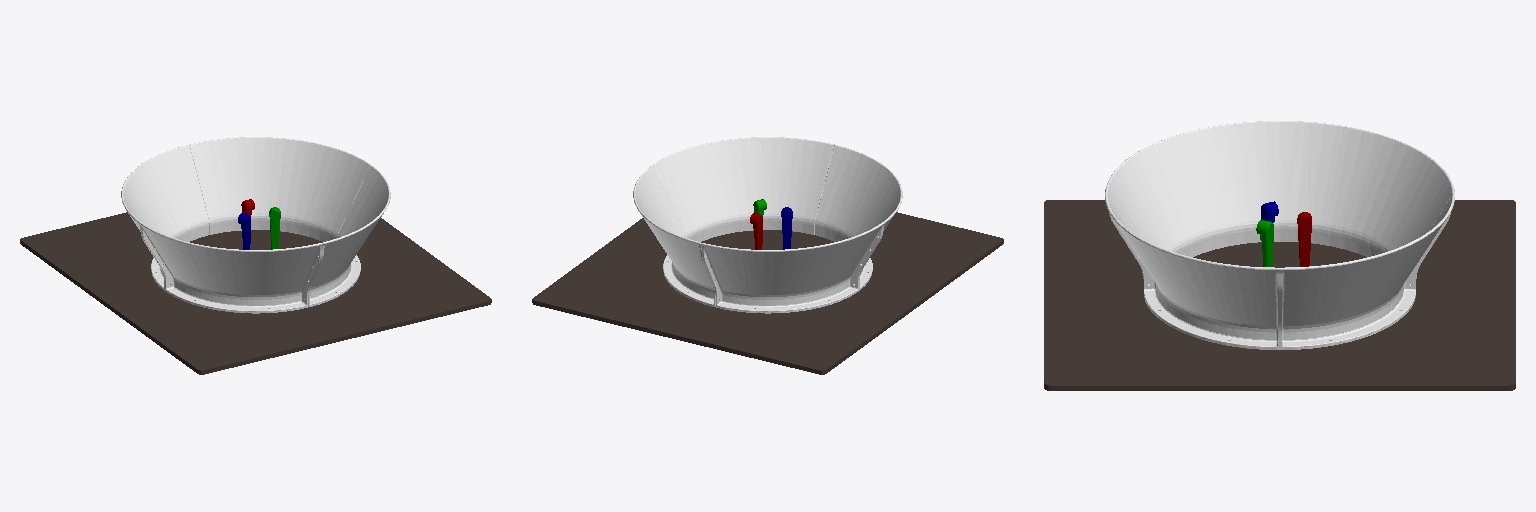
The robot description file, URDF, robot "trifinger_with_stage":
<?xml version="1.0" ?>
<!-- =================================================================================== -->
<!-- |    This document was autogenerated by xacro from robot_properties_fingers/xacro/trifinger_with_stage.urdf.xacro | -->
<!-- |    EDITING THIS FILE BY HAND IS NOT RECOMMENDED                                 | -->
<!-- =================================================================================== -->
<robot name="trifinger_with_stage">
  <!--
    Frames are defined such that they all align with the base frame when all
    joints are at position zero.

    In zero-configuration the origins of all joints are in one line.

    In zero-configuration the origin of the base link is exactly above the
    finger tip which should make it easy to place the finger in the world.
    -->
  <!-- Define the global base_link and place all other objects relative to it. -->
  <link name="base_link">
    <inertial>
      <origin rpy="0 0 0" xyz="0 0 0"/>
      <mass value="1"/>
      <inertia ixx="4.166666666666667e-06" ixy="0" ixz="0" iyy="4.166666666666667e-06" iyz="0" izz="4.166666666666667e-06"/>
    </inertial>
  </link>
  <!-- Define the upper holder -->
  <link name="upper_holder_link">
    <inertial>
      <origin rpy="0 0 0" xyz="0 0 0"/>
      <mass value="1"/>
      <inertia ixx="4.166666666666667e-06" ixy="0" ixz="0" iyy="4.166666666666667e-06" iyz="0" izz="4.166666666666667e-06"/>
    </inertial>
  </link>
  <joint name="base_to_upper_holder_joint" type="fixed">
    <parent link="base_link"/>
    <child link="upper_holder_link"/>
    <origin xyz="0 0 0.29"/>
  </joint>
  <material name="finger_0_material">
    <color rgba="0.6 0.0 0.0 1.0"/>
  </material>
  <material name="finger_120_material">
    <color rgba="0.0 0.6 0.0 1.0"/>
  </material>
  <material name="finger_240_material">
    <color rgba="0.0 0.0 0.6 1.0"/>
  </material>
  <!--
        Fixed links for the finger base (parts where the upper link is mounted).
        -->
  <link name="finger_base_link_0">
    <visual>
      <origin rpy="0 0 0" xyz="0 0.179 0"/>
      <geometry>
        <mesh filename="package://robot_properties_fingers/meshes/SIM__BL-Finger_Base.obj" scale="1 1 1"/>
      </geometry>
      <material name="finger_0_material"/>
    </visual>
    <collision>
      <origin rpy="0 0 0" xyz="0 0.179 0"/>
      <geometry>
        <mesh filename="package://robot_properties_fingers/meshes/SIM__BL-Finger_Base.obj" scale="1 1 1"/>
      </geometry>
    </collision>
    <inertial>
      <origin rpy="0 0 0" xyz="0 0 0"/>
      <mass value="1"/>
      <inertia ixx="0.00041666666666666675" ixy="0" ixz="0" iyy="0.00041666666666666675" iyz="0" izz="0.00041666666666666675"/>
    </inertial>
  </link>
  <!-- The movable links (upper, middle and lower) of the finger. -->
  <!-- TODO inertia parameters don't look correct, they cant be same for upper and middle! -->
  <link name="finger_upper_link_0">
    <visual>
      <origin rpy="0 0 0" xyz="0 -0.02695 0"/>
      <geometry>
        <mesh filename="package://robot_properties_fingers/meshes/SIM__BL-Finger_Proximal.obj" scale="1 1 1"/>
      </geometry>
      <material name="finger_0_material"/>
    </visual>
    <collision>
      <origin rpy="0 0 0" xyz="0 -0.02695 0"/>
      <geometry>
        <mesh filename="package://robot_properties_fingers/meshes/SIM__BL-Finger_Proximal.obj" scale="1 1 1"/>
      </geometry>
    </collision>
    <inertial>
      <origin rpy="0 0 0" xyz="0 0.06 0"/>
      <mass value="0.2"/>
      <inertia ixx="0.0003533333333333334" ixy="0" ixz="0" iyy="5.333333333333333e-05" iyz="0" izz="0.0003533333333333334"/>
    </inertial>
  </link>
  <link name="finger_middle_link_0">
    <visual>
      <origin rpy="1.5707963267948966 0 0" xyz="0.014 0 0"/>
      <geometry>
        <mesh filename="package://robot_properties_fingers/meshes/SIM__BL-Finger_Intermediate.obj" scale="1 1 1"/>
      </geometry>
      <material name="finger_0_material"/>
    </visual>
    <collision>
      <origin rpy="1.5707963267948966 0 0" xyz="0.014 0 0"/>
      <geometry>
        <mesh filename="package://robot_properties_fingers/meshes/SIM__BL-Finger_Intermediate.obj" scale="1 1 1"/>
      </geometry>
    </collision>
    <inertial>
      <origin rpy="0 0 0" xyz="0.028 0 -0.08"/>
      <mass value="0.2"/>
      <inertia ixx="0.0003533333333333334" ixy="0" ixz="0" iyy="0.0003533333333333334" iyz="0" izz="5.333333333333333e-05"/>
    </inertial>
  </link>
  <link name="finger_lower_link_0">
    <visual>
      <origin rpy="1.5707963267948966 0 0" xyz="0.014 0 0"/>
      <geometry>
        <mesh filename="package://robot_properties_fingers/meshes/SIM_BL_FINGER_TIP_LINK.obj" scale="1 1 1"/>
      </geometry>
      <material name="finger_0_material"/>
    </visual>
    <collision>
      <origin rpy="1.5707963267948966 0 0" xyz="0.014 0 0"/>
      <geometry>
        <mesh filename="package://robot_properties_fingers/meshes/SIM_BL_FINGER_TIP_LINK.obj" scale="1 1 1"/>
      </geometry>
    </collision>
    <inertial>
      <origin rpy="0 0 0" xyz="0 0 -0.06"/>
      <mass value="0.01"/>
      <inertia ixx="1.6666666666666667e-05" ixy="0" ixz="0" iyy="1.6666666666666667e-05" iyz="0" izz="6.666666666666667e-07"/>
    </inertial>
  </link>
  <!-- fixed link for finger tip -->
  <link name="finger_tip_link_0">
    <inertial>
      <origin rpy="0 0 0" xyz="0 0 0"/>
      <mass value="0.02"/>
      <inertia ixx="3.3333333333333335e-07" ixy="0" ixz="0" iyy="3.3333333333333335e-07" iyz="0" izz="3.3333333333333335e-07"/>
    </inertial>
  </link>
  <joint name="finger_lower_to_tip_joint_0" type="fixed">
    <parent link="finger_lower_link_0"/>
    <child link="finger_tip_link_0"/>
    <origin xyz="0 0 -0.16"/>
  </joint>
  <!-- kinematics -->
  <!-- TODO: joint limits are based on values from wiki
        (https://atlas.is.localnet/confluence/display/AMDW/Forward+Kinematics) but
        should be verified on the real system (especially the finger tip limits look
        a bit too big when visualizing the model. -->
  <joint name="finger_base_to_upper_joint_0" type="revolute">
    <parent link="finger_base_link_0"/>
    <child link="finger_upper_link_0"/>
    <limit effort="1000" lower="-1.5707963267948966" upper="1.5707963267948966" velocity="1000"/>
    <axis xyz="0 1 0"/>
    <origin rpy="0 0 0" xyz="0 0 0"/>
  </joint>
  <joint name="finger_upper_to_middle_joint_0" type="revolute">
    <parent link="finger_upper_link_0"/>
    <child link="finger_middle_link_0"/>
    <limit effort="1000" lower="-1.3526301702956054" upper="4.494222823885399" velocity="1000"/>
    <axis xyz="-1 0 0"/>
    <origin rpy="0 0 0" xyz="0 0 0"/>
  </joint>
  <joint name="finger_middle_to_lower_joint_0" type="revolute">
    <parent link="finger_middle_link_0"/>
    <child link="finger_lower_link_0"/>
    <limit effort="1000" lower="-3.001966313430247" upper="3.001966313430247" velocity="1000"/>
    <axis xyz="1 0 0"/>
    <origin rpy="0 0 0" xyz="0 0 -0.16"/>
  </joint>
  <!--
        Fixed links for the finger base (parts where the upper link is mounted).
        -->
  <link name="finger_base_link_120">
    <visual>
      <origin rpy="0 0 0" xyz="0 0.179 0"/>
      <geometry>
        <mesh filename="package://robot_properties_fingers/meshes/SIM__BL-Finger_Base.obj" scale="1 1 1"/>
      </geometry>
      <material name="finger_120_material"/>
    </visual>
    <collision>
      <origin rpy="0 0 0" xyz="0 0.179 0"/>
      <geometry>
        <mesh filename="package://robot_properties_fingers/meshes/SIM__BL-Finger_Base.obj" scale="1 1 1"/>
      </geometry>
    </collision>
    <inertial>
      <origin rpy="0 0 0" xyz="0 0 0"/>
      <mass value="1"/>
      <inertia ixx="0.00041666666666666675" ixy="0" ixz="0" iyy="0.00041666666666666675" iyz="0" izz="0.00041666666666666675"/>
    </inertial>
  </link>
  <!-- The movable links (upper, middle and lower) of the finger. -->
  <!-- TODO inertia parameters don't look correct, they cant be same for upper and middle! -->
  <link name="finger_upper_link_120">
    <visual>
      <origin rpy="0 0 0" xyz="0 -0.02695 0"/>
      <geometry>
        <mesh filename="package://robot_properties_fingers/meshes/SIM__BL-Finger_Proximal.obj" scale="1 1 1"/>
      </geometry>
      <material name="finger_120_material"/>
    </visual>
    <collision>
      <origin rpy="0 0 0" xyz="0 -0.02695 0"/>
      <geometry>
        <mesh filename="package://robot_properties_fingers/meshes/SIM__BL-Finger_Proximal.obj" scale="1 1 1"/>
      </geometry>
    </collision>
    <inertial>
      <origin rpy="0 0 0" xyz="0 0.06 0"/>
      <mass value="0.2"/>
      <inertia ixx="0.0003533333333333334" ixy="0" ixz="0" iyy="5.333333333333333e-05" iyz="0" izz="0.0003533333333333334"/>
    </inertial>
  </link>
  <link name="finger_middle_link_120">
    <visual>
      <origin rpy="1.5707963267948966 0 0" xyz="0.014 0 0"/>
      <geometry>
        <mesh filename="package://robot_properties_fingers/meshes/SIM__BL-Finger_Intermediate.obj" scale="1 1 1"/>
      </geometry>
      <material name="finger_120_material"/>
    </visual>
    <collision>
      <origin rpy="1.5707963267948966 0 0" xyz="0.014 0 0"/>
      <geometry>
        <mesh filename="package://robot_properties_fingers/meshes/SIM__BL-Finger_Intermediate.obj" scale="1 1 1"/>
      </geometry>
    </collision>
    <inertial>
      <origin rpy="0 0 0" xyz="0.028 0 -0.08"/>
      <mass value="0.2"/>
      <inertia ixx="0.0003533333333333334" ixy="0" ixz="0" iyy="0.0003533333333333334" iyz="0" izz="5.333333333333333e-05"/>
    </inertial>
  </link>
  <link name="finger_lower_link_120">
    <visual>
      <origin rpy="1.5707963267948966 0 0" xyz="0.014 0 0"/>
      <geometry>
        <mesh filename="package://robot_properties_fingers/meshes/SIM_BL_FINGER_TIP_LINK.obj" scale="1 1 1"/>
      </geometry>
      <material name="finger_120_material"/>
    </visual>
    <collision>
      <origin rpy="1.5707963267948966 0 0" xyz="0.014 0 0"/>
      <geometry>
        <mesh filename="package://robot_properties_fingers/meshes/SIM_BL_FINGER_TIP_LINK.obj" scale="1 1 1"/>
      </geometry>
    </collision>
    <inertial>
      <origin rpy="0 0 0" xyz="0 0 -0.06"/>
      <mass value="0.01"/>
      <inertia ixx="1.6666666666666667e-05" ixy="0" ixz="0" iyy="1.6666666666666667e-05" iyz="0" izz="6.666666666666667e-07"/>
    </inertial>
  </link>
  <!-- fixed link for finger tip -->
  <link name="finger_tip_link_120">
    <inertial>
      <origin rpy="0 0 0" xyz="0 0 0"/>
      <mass value="0.02"/>
      <inertia ixx="3.3333333333333335e-07" ixy="0" ixz="0" iyy="3.3333333333333335e-07" iyz="0" izz="3.3333333333333335e-07"/>
    </inertial>
  </link>
  <joint name="finger_lower_to_tip_joint_120" type="fixed">
    <parent link="finger_lower_link_120"/>
    <child link="finger_tip_link_120"/>
    <origin xyz="0 0 -0.16"/>
  </joint>
  <!-- kinematics -->
  <!-- TODO: joint limits are based on values from wiki
        (https://atlas.is.localnet/confluence/display/AMDW/Forward+Kinematics) but
        should be verified on the real system (especially the finger tip limits look
        a bit too big when visualizing the model. -->
  <joint name="finger_base_to_upper_joint_120" type="revolute">
    <parent link="finger_base_link_120"/>
    <child link="finger_upper_link_120"/>
    <limit effort="1000" lower="-1.5707963267948966" upper="1.5707963267948966" velocity="1000"/>
    <axis xyz="0 1 0"/>
    <origin rpy="0 0 0" xyz="0 0 0"/>
  </joint>
  <joint name="finger_upper_to_middle_joint_120" type="revolute">
    <parent link="finger_upper_link_120"/>
    <child link="finger_middle_link_120"/>
    <limit effort="1000" lower="-1.3526301702956054" upper="4.494222823885399" velocity="1000"/>
    <axis xyz="-1 0 0"/>
    <origin rpy="0 0 0" xyz="0 0 0"/>
  </joint>
  <joint name="finger_middle_to_lower_joint_120" type="revolute">
    <parent link="finger_middle_link_120"/>
    <child link="finger_lower_link_120"/>
    <limit effort="1000" lower="-3.001966313430247" upper="3.001966313430247" velocity="1000"/>
    <axis xyz="1 0 0"/>
    <origin rpy="0 0 0" xyz="0 0 -0.16"/>
  </joint>
  <!--
        Fixed links for the finger base (parts where the upper link is mounted).
        -->
  <link name="finger_base_link_240">
    <visual>
      <origin rpy="0 0 0" xyz="0 0.179 0"/>
      <geometry>
        <mesh filename="package://robot_properties_fingers/meshes/SIM__BL-Finger_Base.obj" scale="1 1 1"/>
      </geometry>
      <material name="finger_240_material"/>
    </visual>
    <collision>
      <origin rpy="0 0 0" xyz="0 0.179 0"/>
      <geometry>
        <mesh filename="package://robot_properties_fingers/meshes/SIM__BL-Finger_Base.obj" scale="1 1 1"/>
      </geometry>
    </collision>
    <inertial>
      <origin rpy="0 0 0" xyz="0 0 0"/>
      <mass value="1"/>
      <inertia ixx="0.00041666666666666675" ixy="0" ixz="0" iyy="0.00041666666666666675" iyz="0" izz="0.00041666666666666675"/>
    </inertial>
  </link>
  <!-- The movable links (upper, middle and lower) of the finger. -->
  <!-- TODO inertia parameters don't look correct, they cant be same for upper and middle! -->
  <link name="finger_upper_link_240">
    <visual>
      <origin rpy="0 0 0" xyz="0 -0.02695 0"/>
      <geometry>
        <mesh filename="package://robot_properties_fingers/meshes/SIM__BL-Finger_Proximal.obj" scale="1 1 1"/>
      </geometry>
      <material name="finger_240_material"/>
    </visual>
    <collision>
      <origin rpy="0 0 0" xyz="0 -0.02695 0"/>
      <geometry>
        <mesh filename="package://robot_properties_fingers/meshes/SIM__BL-Finger_Proximal.obj" scale="1 1 1"/>
      </geometry>
    </collision>
    <inertial>
      <origin rpy="0 0 0" xyz="0 0.06 0"/>
      <mass value="0.2"/>
      <inertia ixx="0.0003533333333333334" ixy="0" ixz="0" iyy="5.333333333333333e-05" iyz="0" izz="0.0003533333333333334"/>
    </inertial>
  </link>
  <link name="finger_middle_link_240">
    <visual>
      <origin rpy="1.5707963267948966 0 0" xyz="0.014 0 0"/>
      <geometry>
        <mesh filename="package://robot_properties_fingers/meshes/SIM__BL-Finger_Intermediate.obj" scale="1 1 1"/>
      </geometry>
      <material name="finger_240_material"/>
    </visual>
    <collision>
      <origin rpy="1.5707963267948966 0 0" xyz="0.014 0 0"/>
      <geometry>
        <mesh filename="package://robot_properties_fingers/meshes/SIM__BL-Finger_Intermediate.obj" scale="1 1 1"/>
      </geometry>
    </collision>
    <inertial>
      <origin rpy="0 0 0" xyz="0.028 0 -0.08"/>
      <mass value="0.2"/>
      <inertia ixx="0.0003533333333333334" ixy="0" ixz="0" iyy="0.0003533333333333334" iyz="0" izz="5.333333333333333e-05"/>
    </inertial>
  </link>
  <link name="finger_lower_link_240">
    <visual>
      <origin rpy="1.5707963267948966 0 0" xyz="0.014 0 0"/>
      <geometry>
        <mesh filename="package://robot_properties_fingers/meshes/SIM_BL_FINGER_TIP_LINK.obj" scale="1 1 1"/>
      </geometry>
      <material name="finger_240_material"/>
    </visual>
    <collision>
      <origin rpy="1.5707963267948966 0 0" xyz="0.014 0 0"/>
      <geometry>
        <mesh filename="package://robot_properties_fingers/meshes/SIM_BL_FINGER_TIP_LINK.obj" scale="1 1 1"/>
      </geometry>
    </collision>
    <inertial>
      <origin rpy="0 0 0" xyz="0 0 -0.06"/>
      <mass value="0.01"/>
      <inertia ixx="1.6666666666666667e-05" ixy="0" ixz="0" iyy="1.6666666666666667e-05" iyz="0" izz="6.666666666666667e-07"/>
    </inertial>
  </link>
  <!-- fixed link for finger tip -->
  <link name="finger_tip_link_240">
    <inertial>
      <origin rpy="0 0 0" xyz="0 0 0"/>
      <mass value="0.02"/>
      <inertia ixx="3.3333333333333335e-07" ixy="0" ixz="0" iyy="3.3333333333333335e-07" iyz="0" izz="3.3333333333333335e-07"/>
    </inertial>
  </link>
  <joint name="finger_lower_to_tip_joint_240" type="fixed">
    <parent link="finger_lower_link_240"/>
    <child link="finger_tip_link_240"/>
    <origin xyz="0 0 -0.16"/>
  </joint>
  <!-- kinematics -->
  <!-- TODO: joint limits are based on values from wiki
        (https://atlas.is.localnet/confluence/display/AMDW/Forward+Kinematics) but
        should be verified on the real system (especially the finger tip limits look
        a bit too big when visualizing the model. -->
  <joint name="finger_base_to_upper_joint_240" type="revolute">
    <parent link="finger_base_link_240"/>
    <child link="finger_upper_link_240"/>
    <limit effort="1000" lower="-1.5707963267948966" upper="1.5707963267948966" velocity="1000"/>
    <axis xyz="0 1 0"/>
    <origin rpy="0 0 0" xyz="0 0 0"/>
  </joint>
  <joint name="finger_upper_to_middle_joint_240" type="revolute">
    <parent link="finger_upper_link_240"/>
    <child link="finger_middle_link_240"/>
    <limit effort="1000" lower="-1.3526301702956054" upper="4.494222823885399" velocity="1000"/>
    <axis xyz="-1 0 0"/>
    <origin rpy="0 0 0" xyz="0 0 0"/>
  </joint>
  <joint name="finger_middle_to_lower_joint_240" type="revolute">
    <parent link="finger_middle_link_240"/>
    <child link="finger_lower_link_240"/>
    <limit effort="1000" lower="-3.001966313430247" upper="3.001966313430247" velocity="1000"/>
    <axis xyz="1 0 0"/>
    <origin rpy="0 0 0" xyz="0 0 -0.16"/>
  </joint>
  <joint name="holder_to_finger_0" type="fixed">
    <parent link="upper_holder_link"/>
    <child link="finger_base_link_0"/>
    <origin rpy="0 0 0" xyz="0.0 0.04 0"/>
  </joint>
  <joint name="holder_to_finger_120" type="fixed">
    <parent link="upper_holder_link"/>
    <child link="finger_base_link_120"/>
    <origin rpy="0 0 -2.0943951023931953" xyz="0.034641016151377546 -0.01999999999999999 0"/>
  </joint>
  <joint name="holder_to_finger_240" type="fixed">
    <parent link="upper_holder_link"/>
    <child link="finger_base_link_240"/>
    <origin rpy="0 0 -4.1887902047863905" xyz="-0.03464101615137754 -0.020000000000000018 0"/>
  </joint>
  <material name="table_material">
    <color rgba="0.31 0.27 0.25 1.0"/>
  </material>
  <material name="boundary_material">
    <color rgba="0.95 0.95 0.95 1.0"/>
  </material>
  <link name="table_link">
    <visual>
      <origin rpy="0 0 0" xyz="0 0 0"/>
      <geometry>
        <mesh filename="package://robot_properties_fingers/meshes/trifinger_table_without_border.obj" scale="1 1 1"/>
      </geometry>
      <material name="table_material"/>
    </visual>
    <collision>
      <origin rpy="0 0 0" xyz="0 0 0"/>
      <geometry>
        <mesh filename="package://robot_properties_fingers/meshes/trifinger_table_without_border.obj" scale="1 1 1"/>
      </geometry>
    </collision>
    <inertial>
      <origin rpy="0 0 0" xyz="0 0 0"/>
      <mass value="2"/>
      <inertia ixx="0.09628333333333333" ixy="0" ixz="0" iyy="0.08403333333333332" iyz="0" izz="0.18028333333333335"/>
    </inertial>
  </link>
  <link name="boundary_link">
    <visual>
      <origin rpy="0 0 0" xyz="0 0 0"/>
      <geometry>
        <mesh filename="package://robot_properties_fingers/meshes/high_table_boundary.obj" scale="1 1 1"/>
      </geometry>
      <material name="boundary_material"/>
    </visual>
    <collision>
      <origin rpy="0 0 0" xyz="0 0 0"/>
      <geometry>
        <mesh filename="package://robot_properties_fingers/meshes/high_table_boundary.obj" scale="1 1 1"/>
      </geometry>
    </collision>
    <inertial>
      <origin rpy="0 0 0" xyz="0 0 0"/>
      <mass value="2"/>
      <inertia ixx="0.05708333333333333" ixy="0" ixz="0" iyy="0.05708333333333333" iyz="0" izz="0.10453333333333334"/>
    </inertial>
  </link>
  <joint name="base_to_table" type="fixed">
    <parent link="base_link"/>
    <child link="table_link"/>
    <origin xyz="0 0 0"/>
  </joint>
  <joint name="table_to_boundary" type="fixed">
    <parent link="table_link"/>
    <child link="boundary_link"/>
    <origin xyz="0 0 0"/>
  </joint>
</robot>

--- Facts derived from the render (not from the file) ---
3 views of the same robot in one strip: view 1: azimuth 30°, elevation 25°; view 2: azimuth 150°, elevation 25°; view 3: azimuth 270°, elevation 25° (orthographic).
Model trifinger_with_stage with 19 links and 18 joints (9 revolute, 9 fixed), rooted at base_link, posed all joints at 0.
Links seen in each view (by area): view 1: boundary_link, table_link; view 2: boundary_link, table_link; view 3: boundary_link, table_link, finger_lower_link_0, finger_lower_link_120.
Boxes of the visible links, box(x1,y1,x2,y2) form: boundary_link: box(121, 137, 390, 313); table_link: box(20, 212, 491, 374); boundary_link: box(633, 137, 902, 313); table_link: box(532, 212, 1003, 374); boundary_link: box(1105, 121, 1454, 349); table_link: box(1044, 200, 1515, 390); finger_lower_link_0: box(1297, 212, 1311, 266); finger_lower_link_120: box(1256, 220, 1273, 266).
Size in the robot's own frame: 0.71 by 0.76 by 0.215 metres.
5 mesh visuals loaded from 6 distinct referenced files (3 OBJ); not drawn: 9 (reference not matched to a file when rendering).